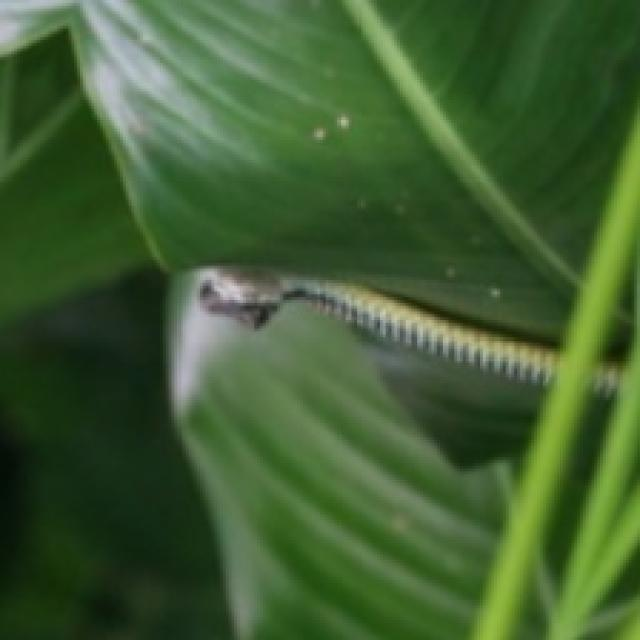paradise tree snake: (197, 269, 554, 386)
